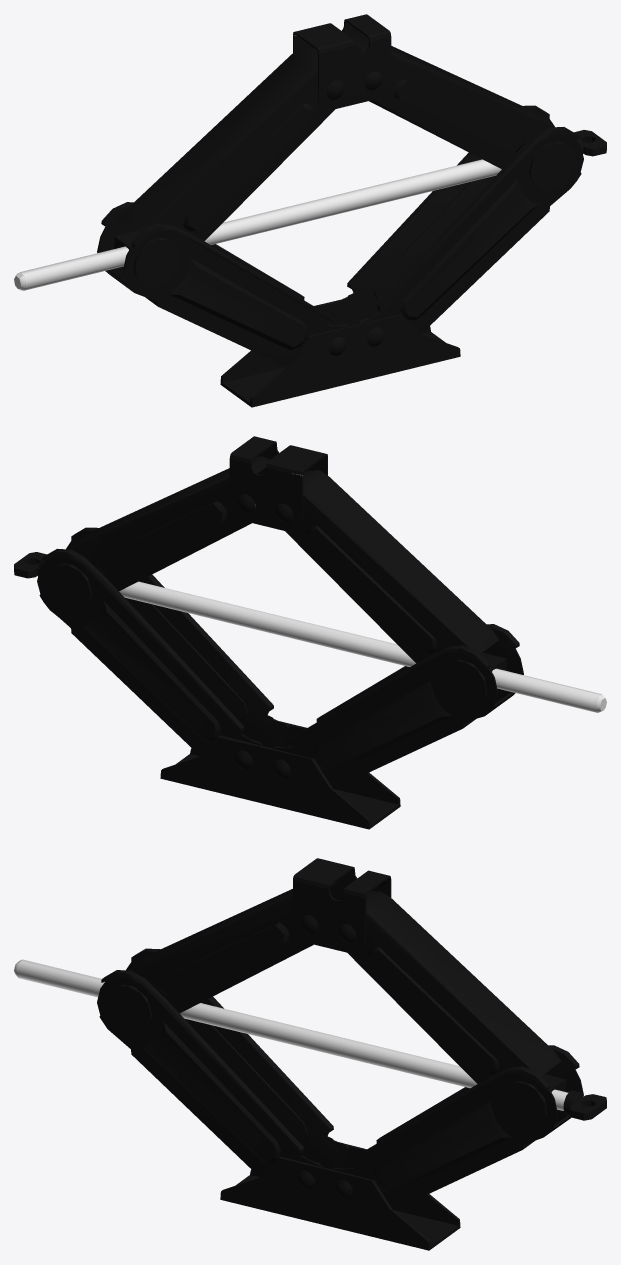
Rendered from car_jack.glb.
The picture shows the model from 3 angles, top to bottom: view 1: azimuth 30°, elevation 25°; view 2: azimuth 150°, elevation 25°; view 3: azimuth 330°, elevation 25°; orthographic projection.
Parts seen in each view (by area): view 1: Object_2; view 2: Object_2; view 3: Object_2.
Boxes of the visible parts, x1=… form: Object_2: x1=14, y1=14, x2=606, y2=407; Object_2: x1=14, y1=436, x2=606, y2=829; Object_2: x1=14, y1=858, x2=606, y2=1250.
Bounding box in the file's own units: 0.7549 × 0.4201 × 0.0829.
Materials: 1 (1 with a texture image).
